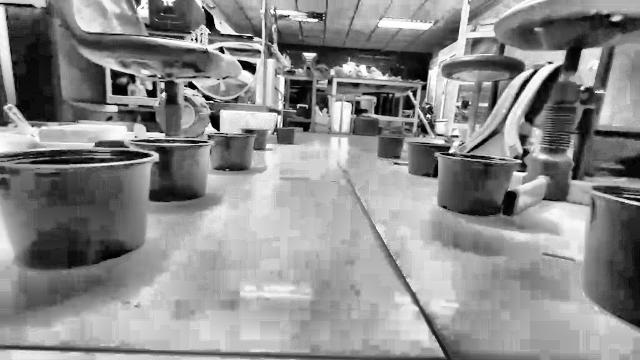pot: (0, 148, 157, 269), (584, 185, 639, 328), (124, 138, 212, 202), (436, 152, 520, 216), (207, 132, 255, 171), (408, 141, 449, 177), (377, 134, 405, 159), (241, 128, 268, 150), (276, 128, 295, 144)
